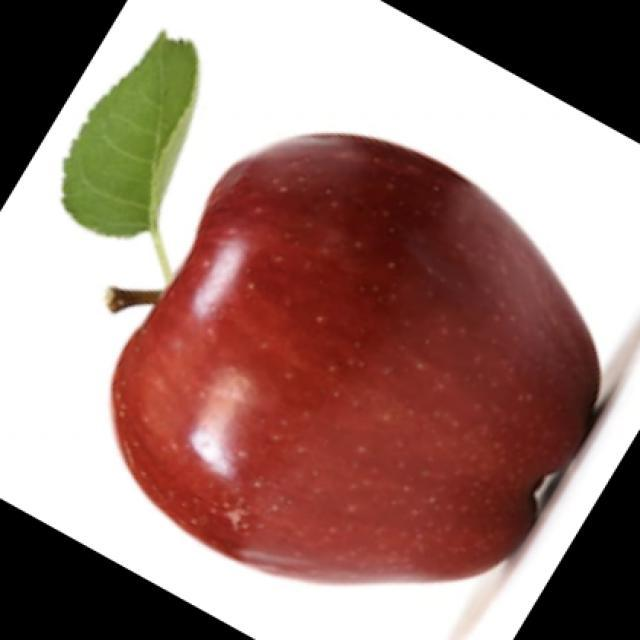Fresh Apple: (102, 125, 606, 587)
